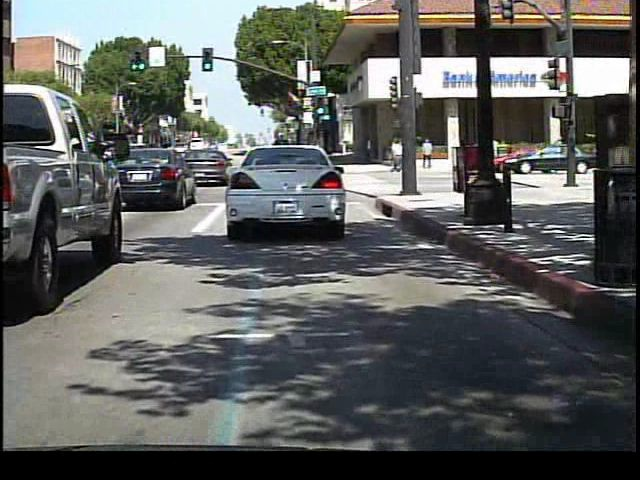person: (484, 135, 503, 171), (419, 136, 435, 169), (390, 138, 402, 176)
